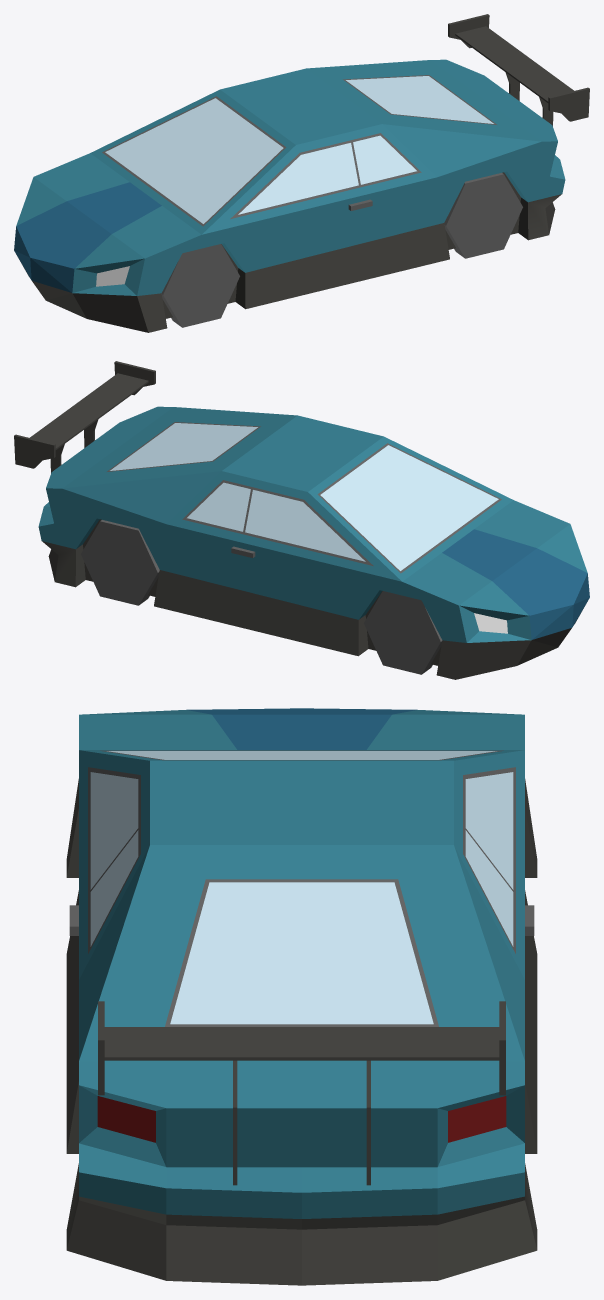
File: Car_2_3.fbx
3 renders of one model, top to bottom at view 1: azimuth 30°, elevation 25°; view 2: azimuth 150°, elevation 25°; view 3: azimuth 270°, elevation 25°, orthographic. The views are drawn at different scales.
Parts seen in each view (by area): view 1: Car_2_3; view 2: Car_2_3; view 3: Car_2_3.
Boxes of the visible parts, box(x1,y1,x2,y2) form: Car_2_3: box(14, 14, 589, 332); Car_2_3: box(14, 361, 589, 679); Car_2_3: box(66, 708, 537, 1285).
Size of the model in its own units: 7.41 by 1.94 by 2.97.
1 material, 1 textured.
